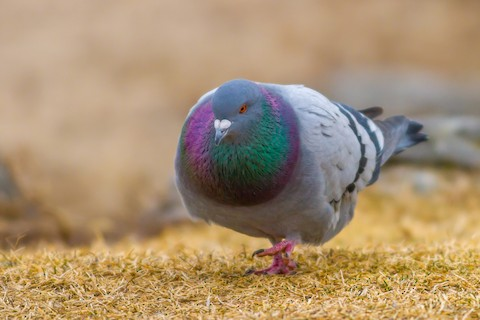pigeon: (172, 73, 428, 283)
